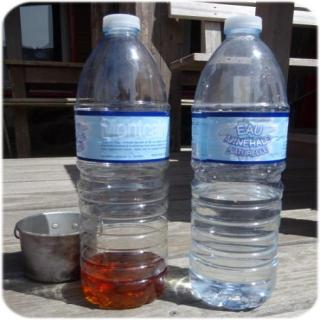Anorganik: (193, 12, 290, 314), (74, 10, 168, 307)
